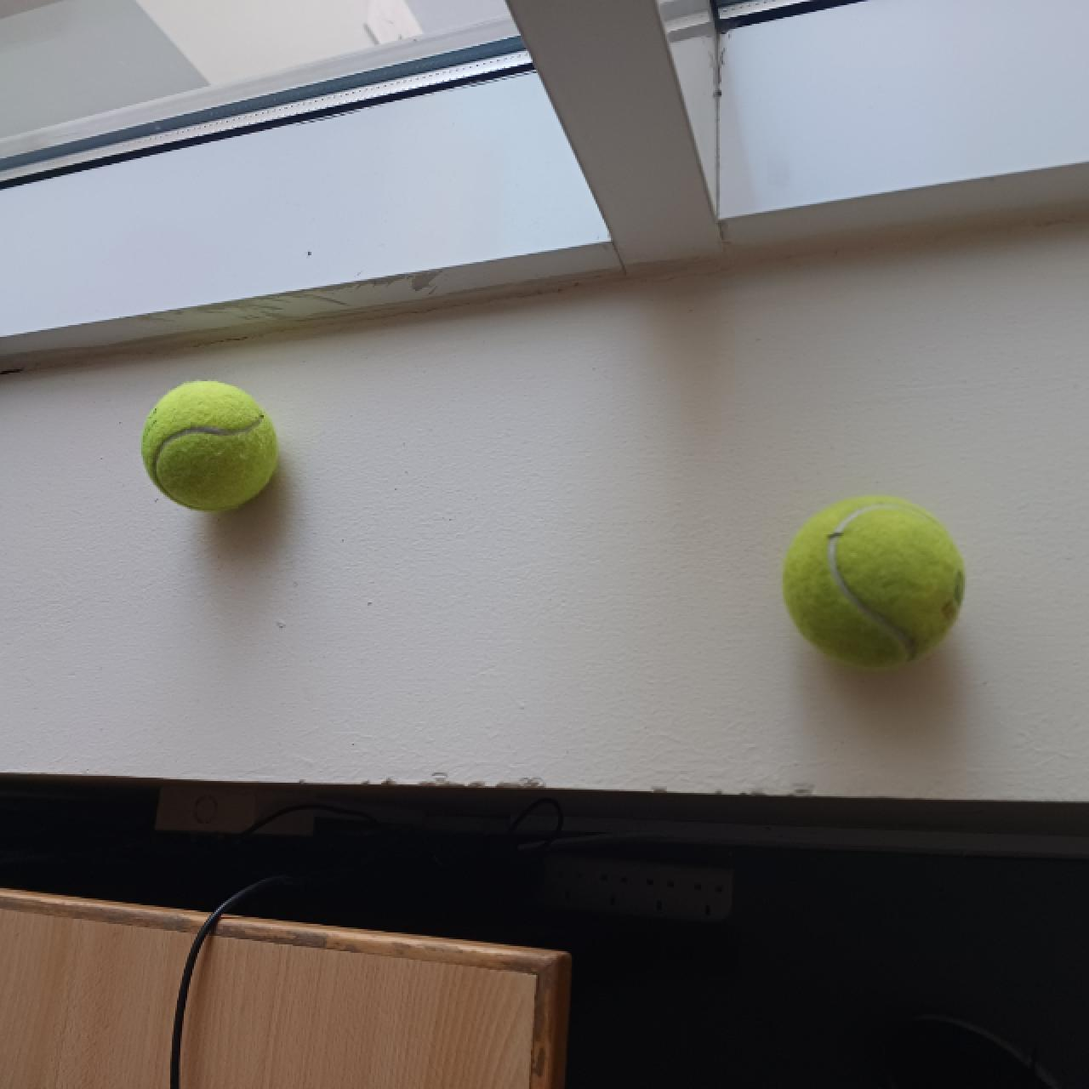tennis-ball: (779, 493, 967, 672), (139, 379, 279, 514)
